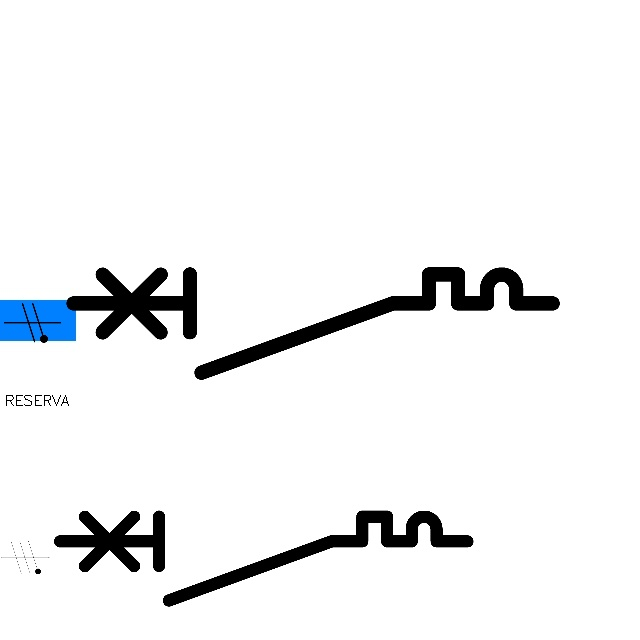interruptor_termomagnetico: (61, 262, 565, 385), (49, 506, 477, 611)
